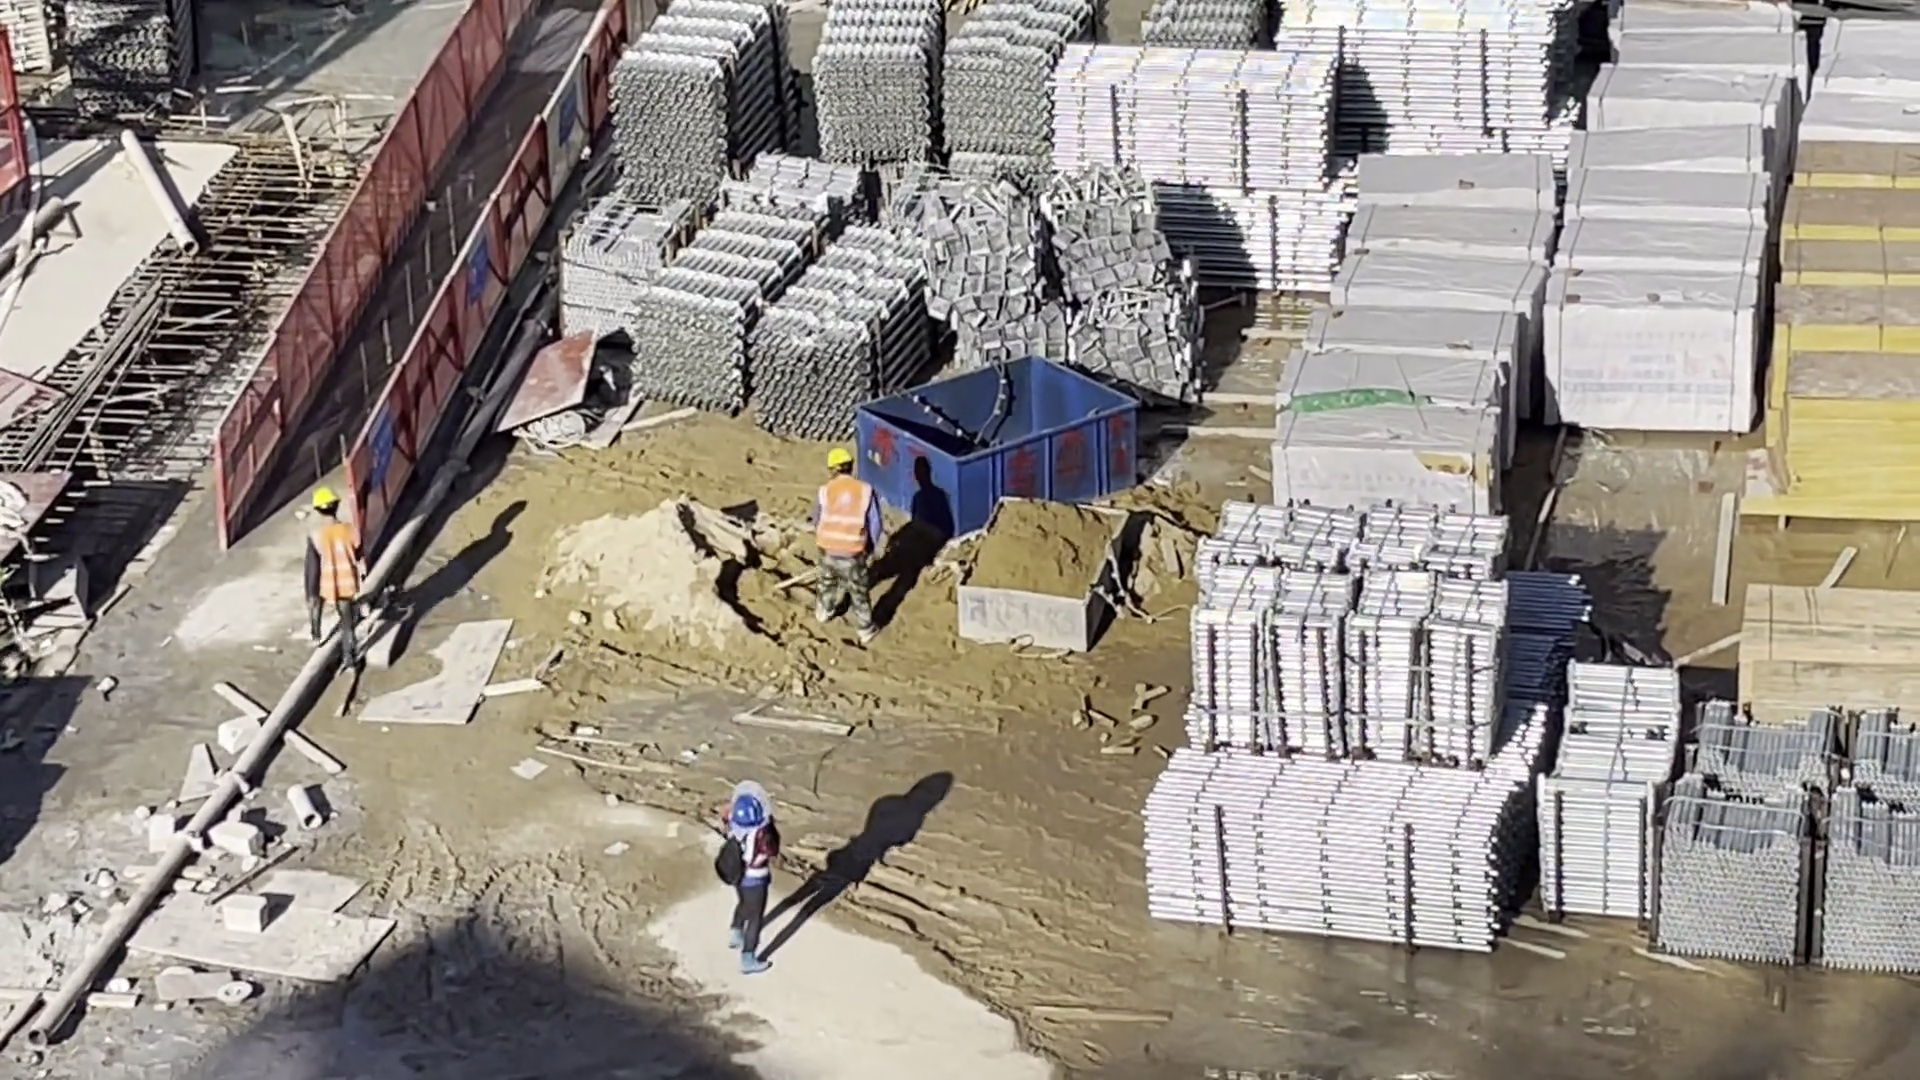board: (1762, 138, 1920, 519), (1735, 574, 1920, 725)
fence: (224, 10, 616, 504)
helmet: (734, 796, 762, 828), (310, 488, 341, 507), (827, 449, 852, 471)
hopper: (856, 357, 1139, 541), (956, 497, 1131, 656)
person: (819, 450, 877, 639), (719, 792, 778, 972), (308, 489, 363, 680)
scaffold: (1189, 503, 1502, 753), (1142, 745, 1515, 945), (1663, 706, 1920, 976), (1058, 47, 1342, 291), (643, 210, 919, 427), (819, 1, 1100, 191), (1283, 3, 1573, 160), (612, 1, 788, 191), (1546, 667, 1670, 919), (64, 1, 188, 115), (1136, 1, 1267, 65), (1, 1, 59, 83)
slogan: (367, 410, 392, 477), (465, 237, 486, 306)
vest: (306, 527, 365, 610), (816, 474, 871, 560), (743, 834, 770, 892)
